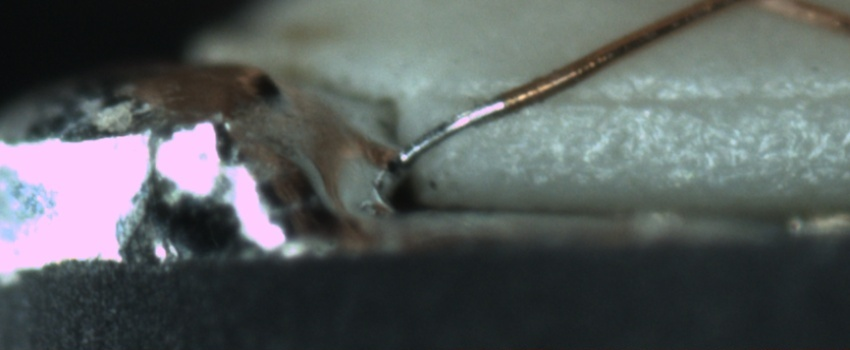DL: (466, 72, 850, 134)
TS: (403, 97, 506, 164)
